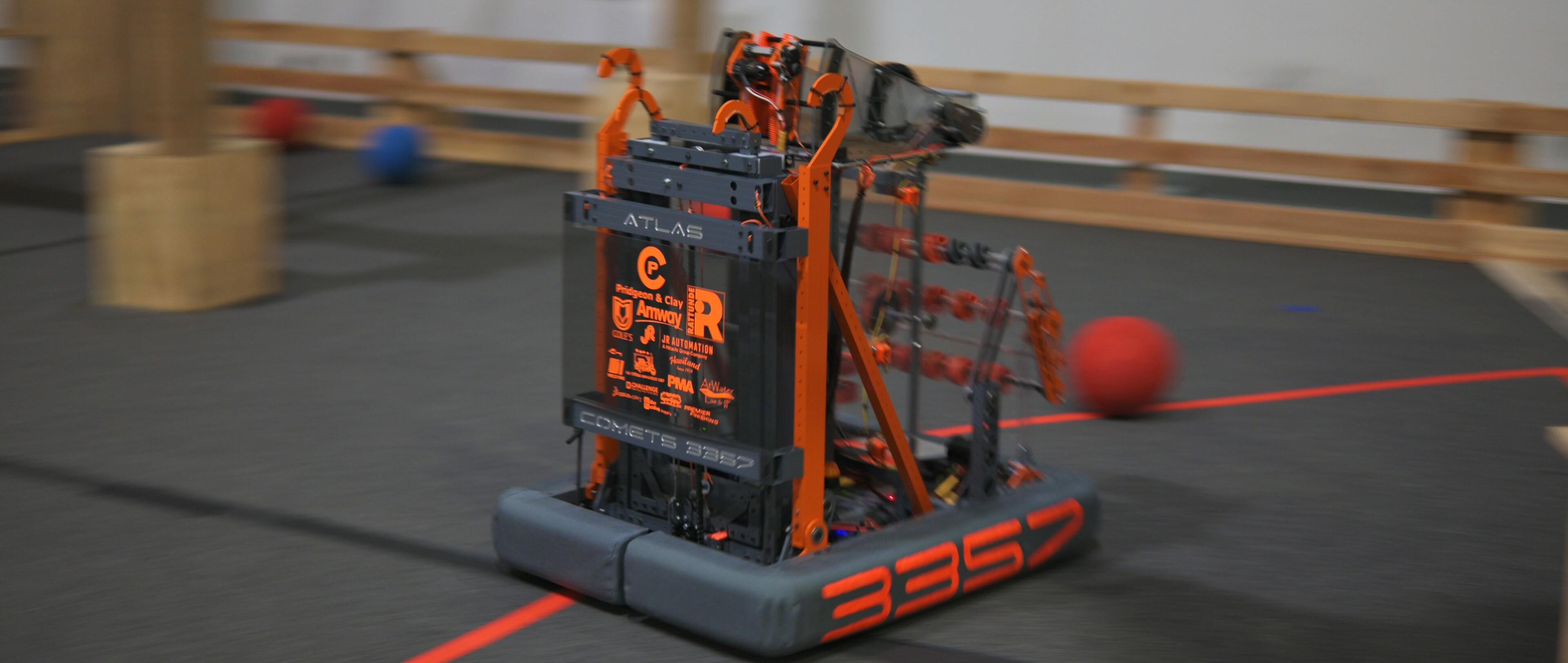robot: (494, 22, 1104, 661)
